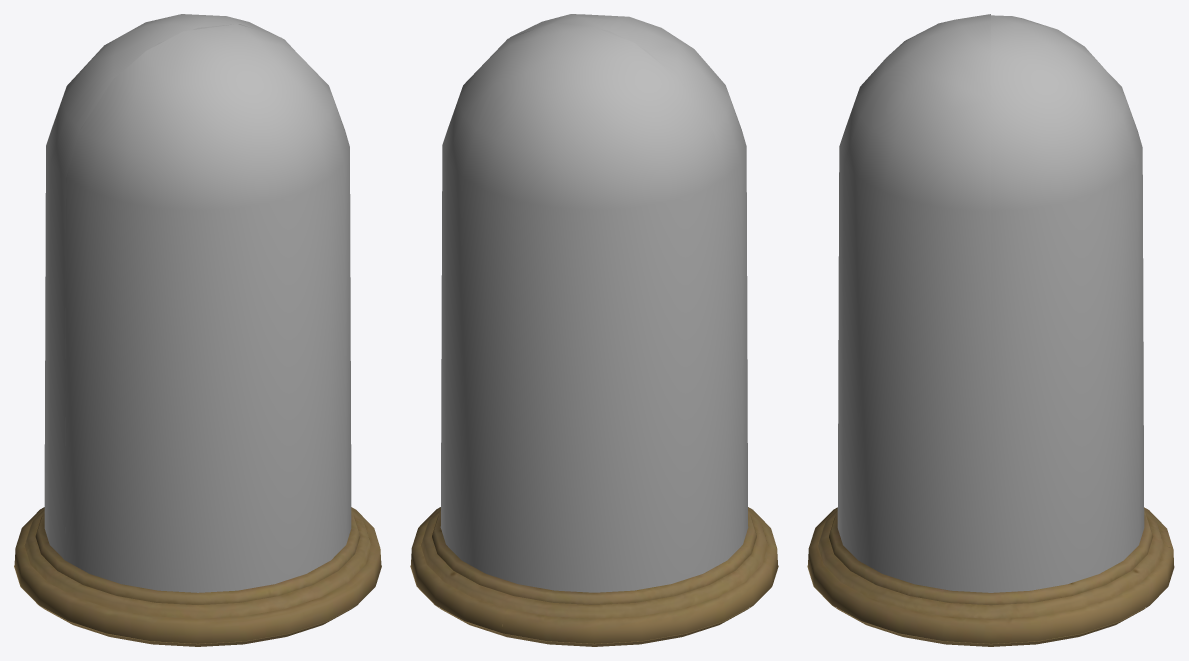
Rendered from vict_torsion_pendulum_clock___ani.glb.
3 views of the same model, side by side, from view 1: azimuth 30°, elevation 25°; view 2: azimuth 150°, elevation 25°; view 3: azimuth 270°, elevation 25° (orthographic).
Visible parts, largest first — view 1: Object_11; view 2: Object_11; view 3: Object_11.
Boxes of the visible parts, box(x1,y1,x2,y2) form: Object_11: box(14, 14, 381, 646); Object_11: box(410, 14, 778, 646); Object_11: box(807, 14, 1174, 646).
Size of the model in its own units: 0.3062 by 0.5002 by 0.3062.
2 materials, 1 textured.
